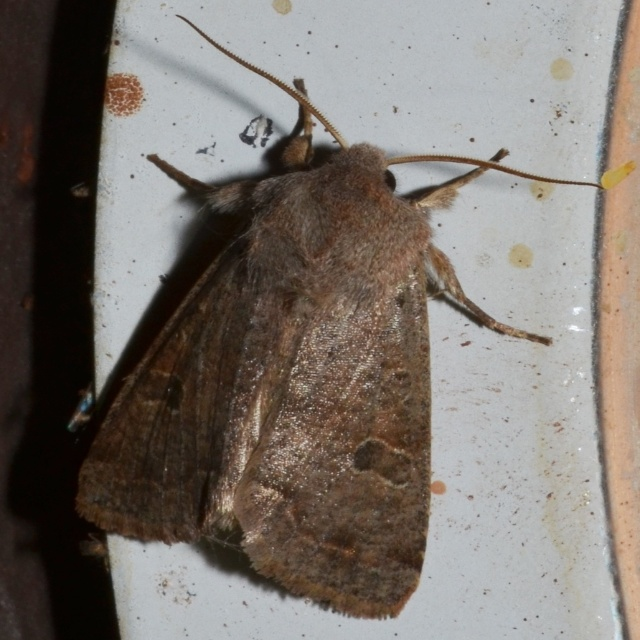Moths and butterflies: (75, 13, 604, 620)
